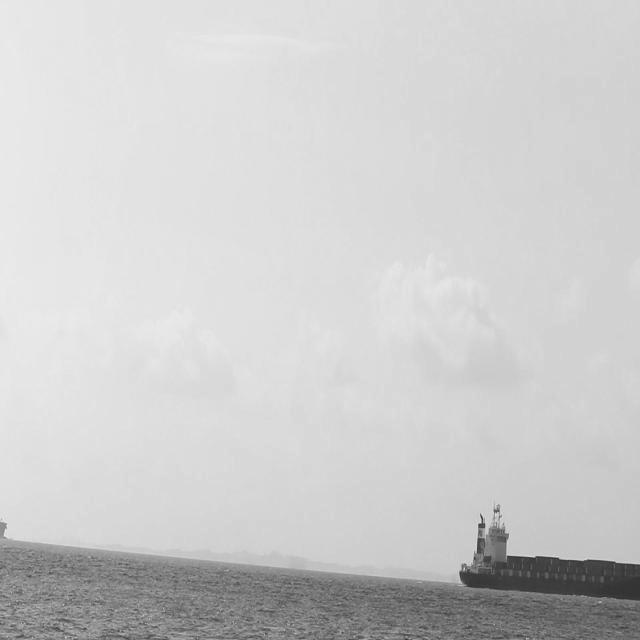ship: (455, 498, 639, 586)
